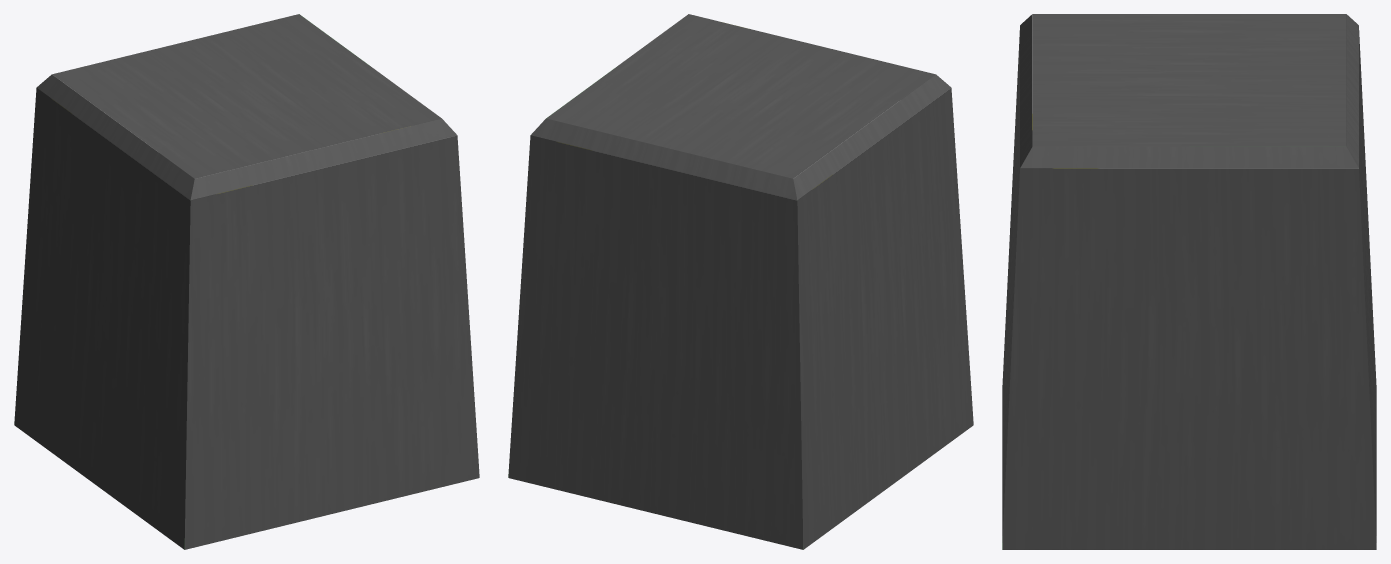
File: SW_ENV_EL_TrackSupport_Footing.fbx
3 views of the same model, side by side, from view 1: azimuth 30°, elevation 25°; view 2: azimuth 150°, elevation 25°; view 3: azimuth 270°, elevation 25° (orthographic). The views are drawn at different scales.
Parts seen in each view (by area): view 1: SW_ENV_EL_TrackSupport_Footing; view 2: SW_ENV_EL_TrackSupport_Footing; view 3: SW_ENV_EL_TrackSupport_Footing.
Boxes of the visible parts, x1,y1,x2,y2 form: SW_ENV_EL_TrackSupport_Footing: (14, 14, 479, 549); SW_ENV_EL_TrackSupport_Footing: (508, 14, 973, 549); SW_ENV_EL_TrackSupport_Footing: (1002, 14, 1376, 549).
Bounding box in the file's own units: 100 × 115 × 100.
